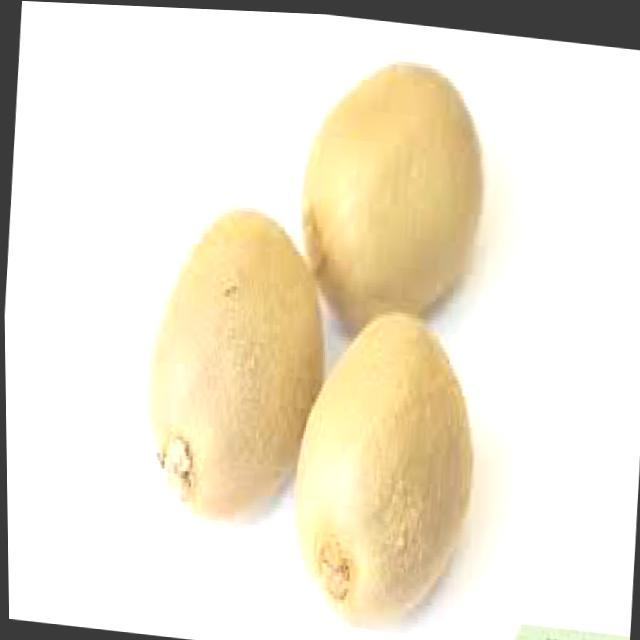kiwi: (127, 191, 341, 526), (280, 295, 481, 626), (287, 36, 489, 329)
